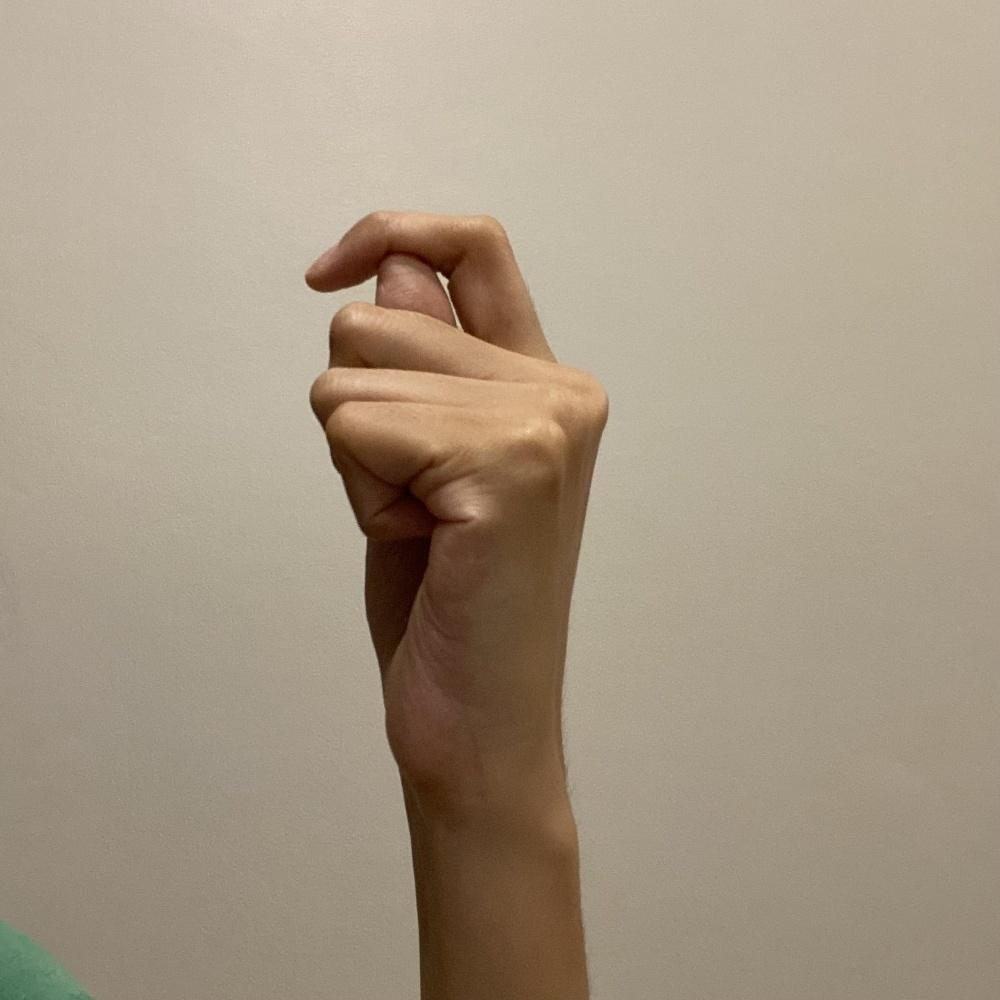t: (297, 203, 612, 812)
